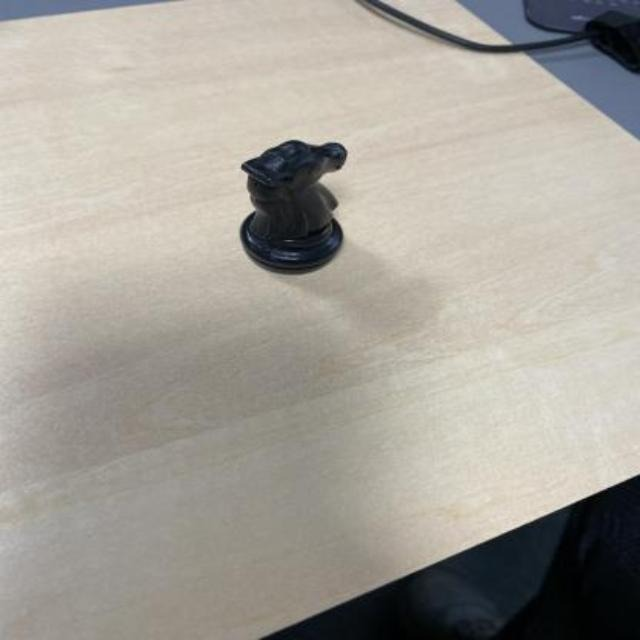black-knight: (239, 136, 351, 274)
